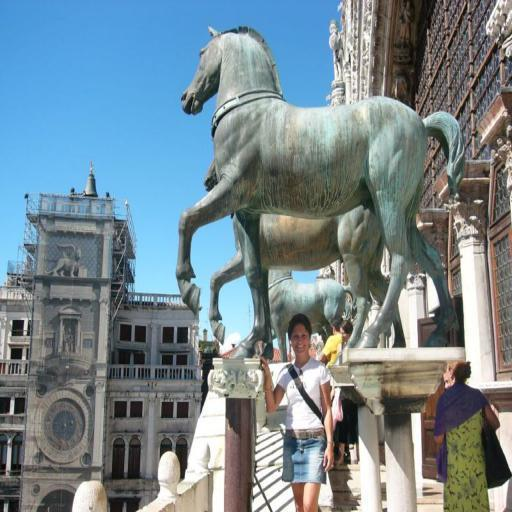horse: (178, 26, 466, 362), (205, 156, 407, 366), (266, 268, 364, 369)
